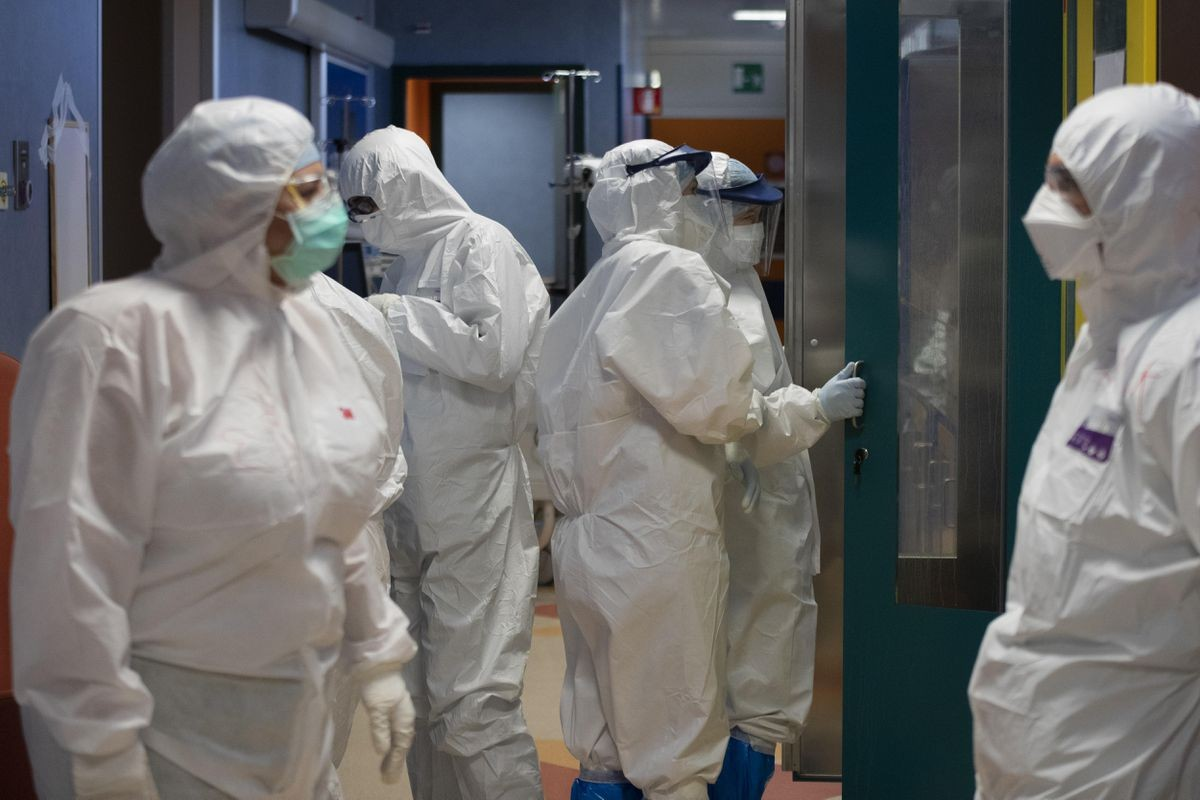Coverall: (4, 93, 423, 800), (965, 71, 1200, 800), (333, 116, 556, 800), (538, 132, 733, 800), (660, 145, 833, 758)
Face_Shield: (615, 147, 739, 270), (710, 179, 785, 283)
Gloves: (352, 671, 419, 788), (60, 745, 164, 800), (808, 351, 871, 437)
Goggles: (281, 170, 341, 215), (1039, 160, 1090, 199), (346, 192, 378, 224)
with_mask: (1021, 155, 1104, 294), (278, 173, 347, 294), (676, 176, 732, 273), (347, 198, 397, 254), (724, 205, 763, 268)
